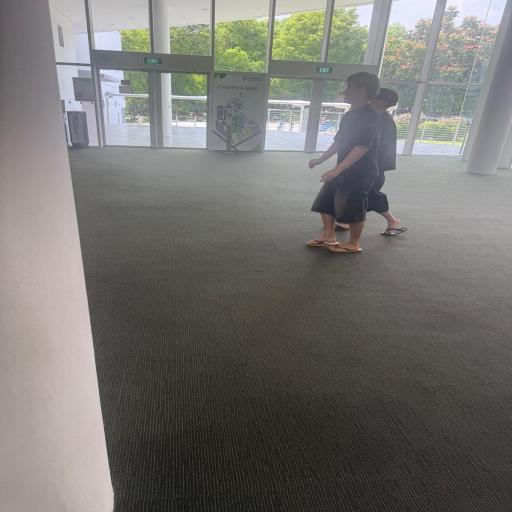person_left: (306, 71, 382, 253), (334, 88, 408, 236)
